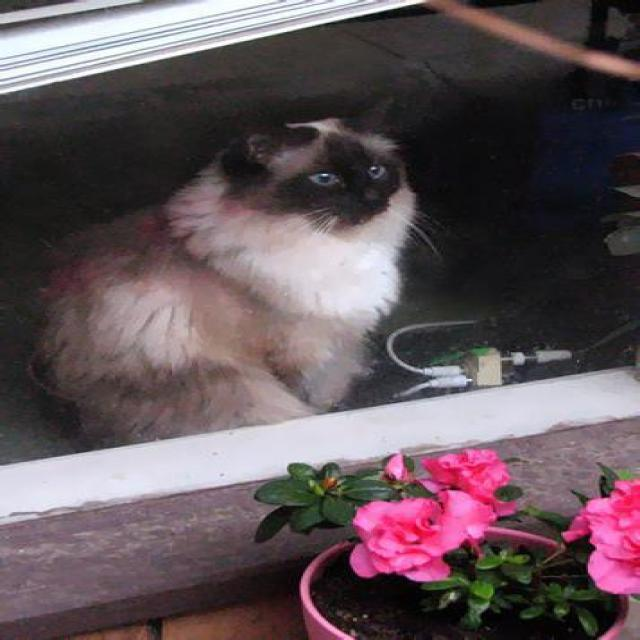cat: (38, 92, 416, 447)
